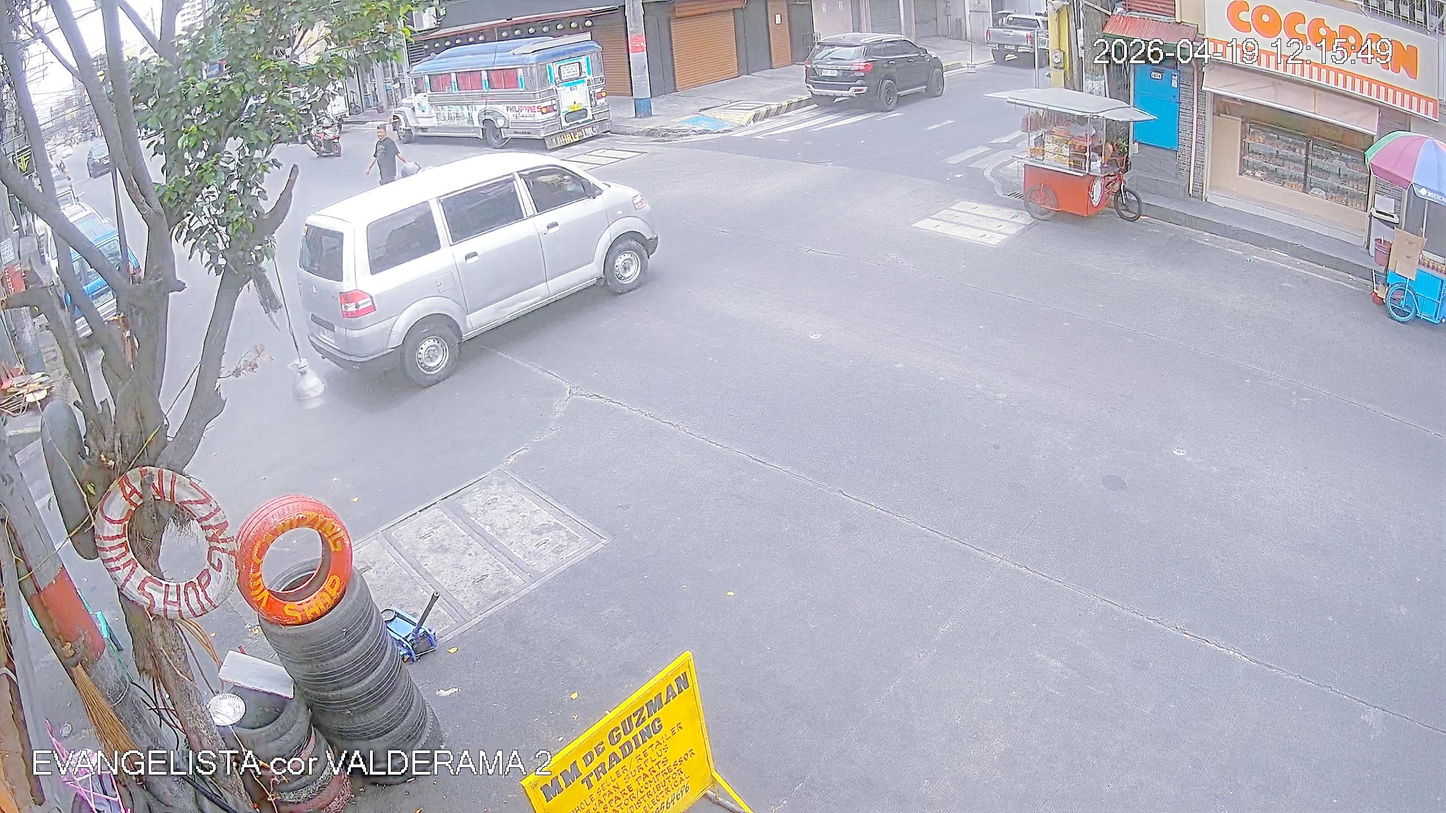Car: (306, 165, 659, 380), (801, 27, 948, 107), (991, 12, 1055, 67)
Motor: (302, 105, 343, 155), (398, 157, 438, 184)
